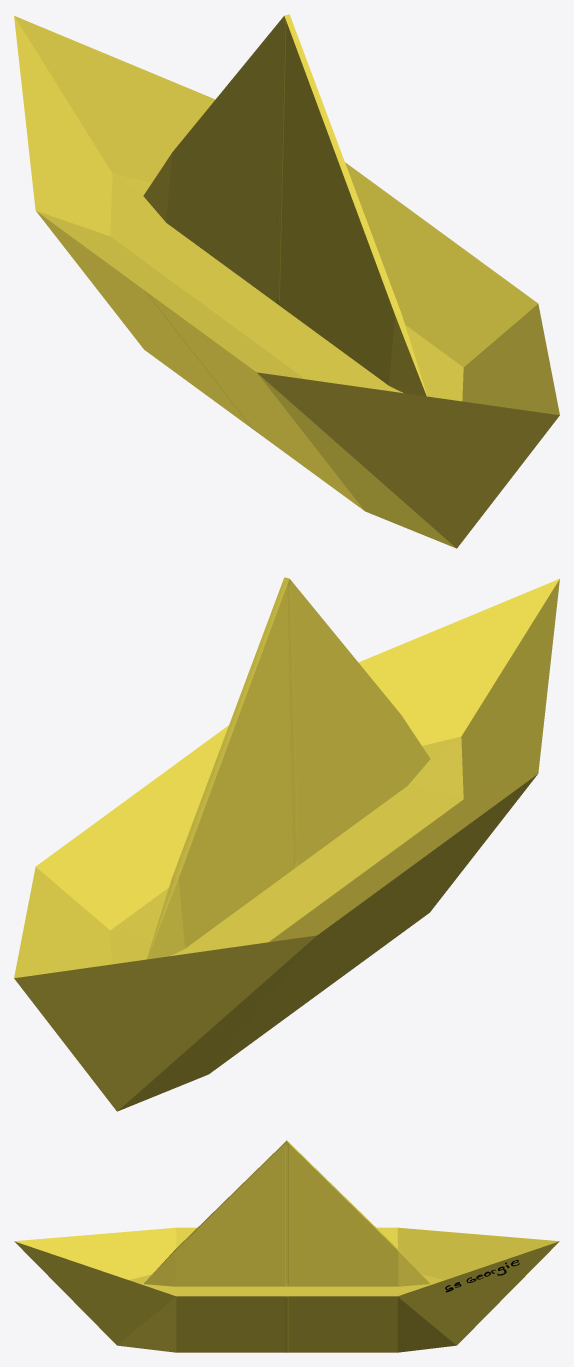
The model's file is paper_boat_yellow_color.glb.
The picture shows the model from 3 angles, top to bottom: view 1: azimuth 30°, elevation 25°; view 2: azimuth 150°, elevation 25°; view 3: azimuth 270°, elevation 25°; orthographic projection. The views are drawn at different scales.
Visible parts, largest first — view 1: Cube_0; view 2: Cube_0; view 3: Cube_0.
Boxes of the visible parts, x1=… form: Cube_0: x1=14, y1=14, x2=559, y2=548; Cube_0: x1=14, y1=577, x2=559, y2=1111; Cube_0: x1=14, y1=1140, x2=559, y2=1352.
Bounding box in the file's own units: 2.8 × 3.89 × 9.39.
